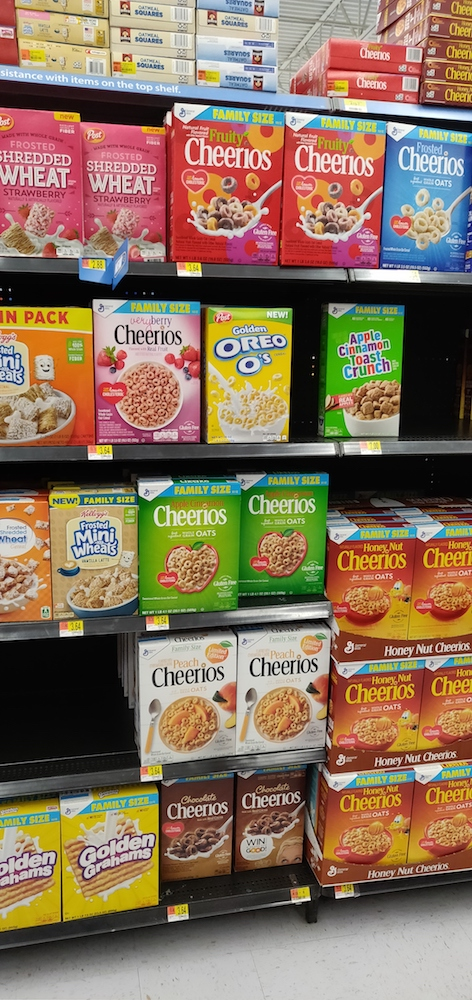Oreo Golden-568301011: (205, 298, 291, 439)
